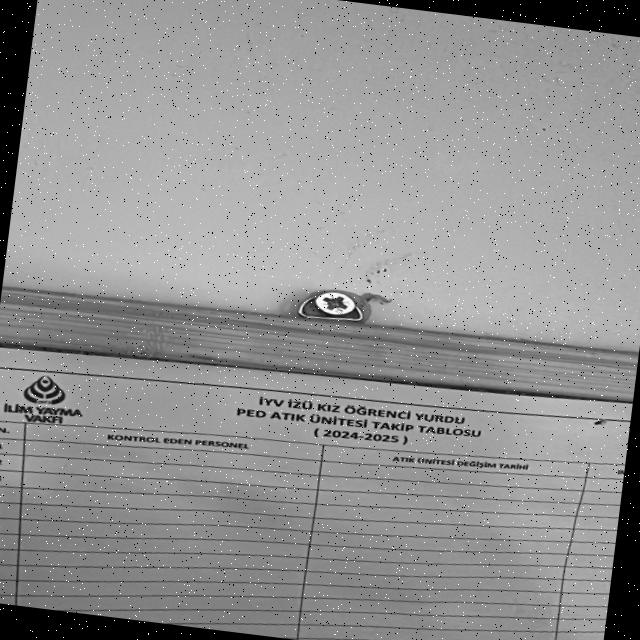Pozidriv: (301, 288, 372, 329)
